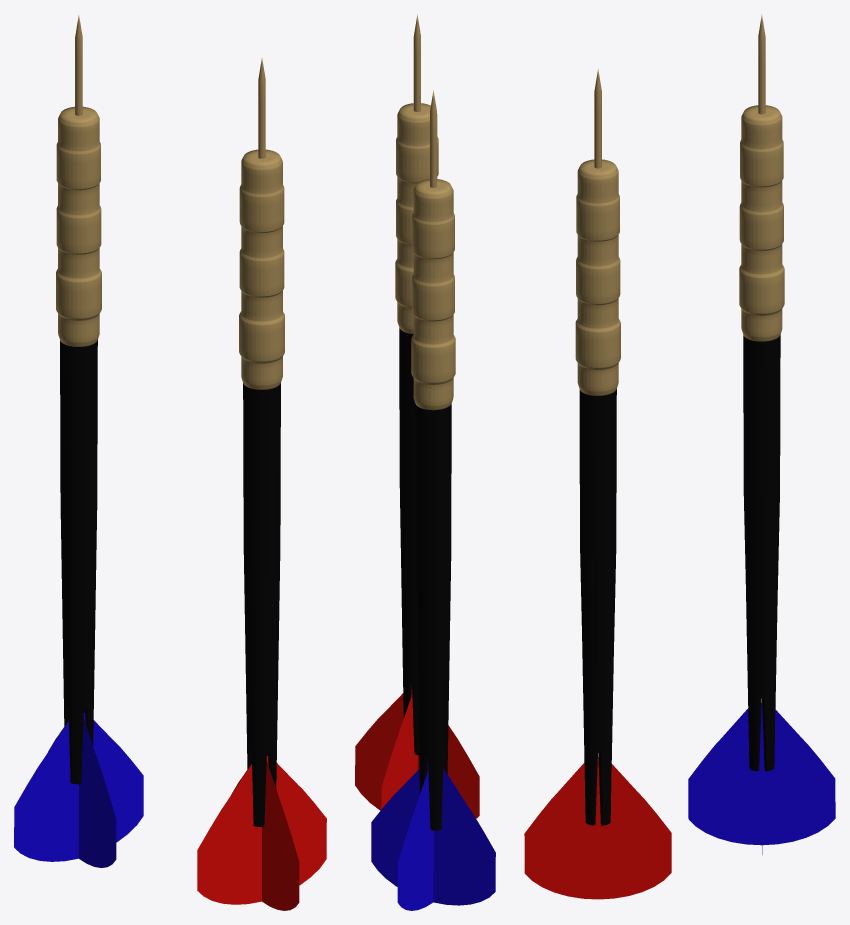
File: dart.glb
3 views of the same model, side by side, from view 1: azimuth 30°, elevation 25°; view 2: azimuth 150°, elevation 25°; view 3: azimuth 270°, elevation 25° (orthographic). The views are drawn at different scales.
Parts seen in each view (by area): view 1: Cylinder.002_4, Cylinder.005_9, Cylinder.001_3, Cylinder.004_8, Circle.002_10, Circle_5, Circle.003_11, Circle.001_6, Cylinder_2, Cylinder.003_7; view 2: Cylinder.005_9, Cylinder.004_8, Circle.002_10, Cylinder.002_4, Cylinder.001_3, Circle_5, Circle.003_11, Circle.001_6, Cylinder_2, Cylinder.003_7; view 3: Cylinder.005_9, Cylinder.002_4, Circle.003_11, Circle.001_6, Cylinder.004_8, Cylinder.001_3, Cylinder_2, Cylinder.003_7.
Boxes of the visible parts, <box> form: Cylinder.002_4: <box>243,383,280,827</box>; Cylinder.005_9: <box>60,340,97,784</box>; Cylinder.001_3: <box>239,149,284,389</box>; Cylinder.004_8: <box>56,106,101,346</box>; Circle.002_10: <box>14,713,143,861</box>; Circle_5: <box>197,756,326,904</box>; Circle.003_11: <box>48,718,116,867</box>; Circle.001_6: <box>231,761,299,910</box>; Cylinder_2: <box>258,58,265,158</box>; Cylinder.003_7: <box>75,15,82,115</box>; Cylinder.005_9: <box>415,404,451,830</box>; Cylinder.004_8: <box>411,179,455,410</box>; Circle.002_10: <box>371,761,495,905</box>; Cylinder.002_4: <box>399,328,418,754</box>; Cylinder.001_3: <box>395,103,438,333</box>; Circle_5: <box>355,686,479,818</box>; Circle.003_11: <box>397,771,458,910</box>; Circle.001_6: <box>381,694,417,809</box>; Cylinder_2: <box>413,14,420,111</box>; Cylinder.003_7: <box>430,90,436,187</box>; Cylinder.005_9: <box>743,335,780,771</box>; Cylinder.002_4: <box>579,389,616,825</box>; Circle.003_11: <box>688,703,835,845</box>; Circle.001_6: <box>524,757,671,899</box>; Cylinder.004_8: <box>739,105,784,341</box>; Cylinder.001_3: <box>575,159,620,395</box>; Cylinder_2: <box>594,68,601,168</box>; Cylinder.003_7: <box>758,14,765,114</box>.
Bounding box in the file's own units: 5.54 × 19.63 × 6.61.
